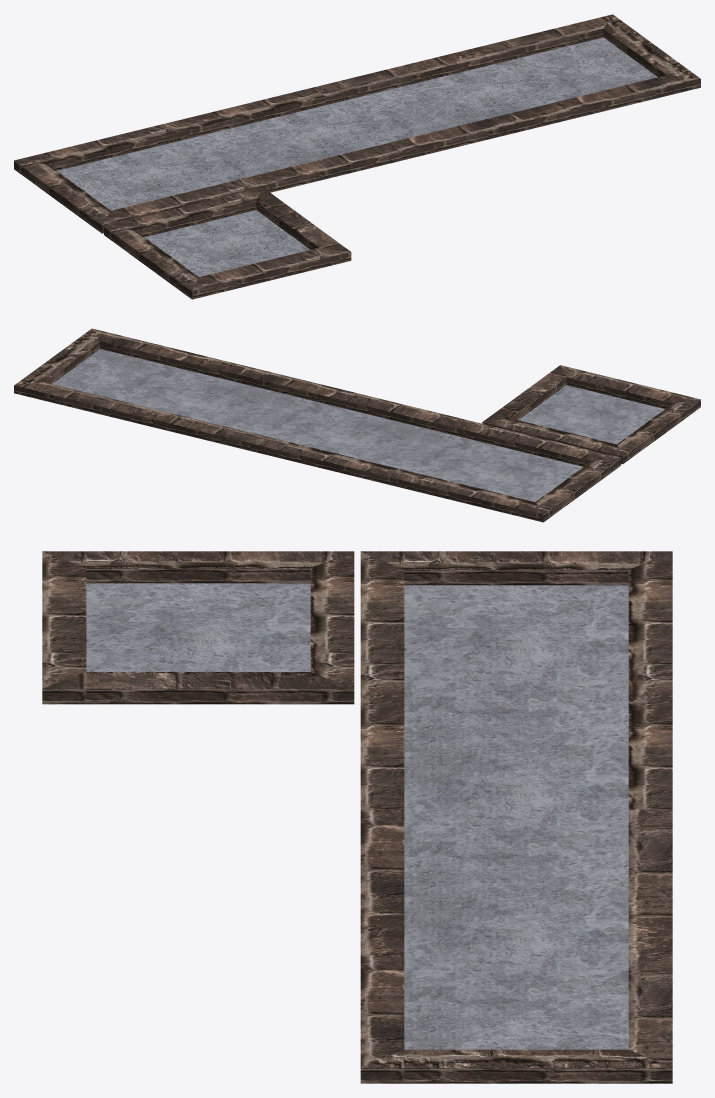
File: road_parts_new.fbx
3 renders of one model, top to bottom at view 1: azimuth 30°, elevation 25°; view 2: azimuth 150°, elevation 25°; view 3: azimuth 270°, elevation 25°, orthographic. The views are drawn at different scales.
Parts seen in each view (by area): view 1: road_2.001, road_2; view 2: road_2.001, road_2; view 3: road_2.001, road_2.
Boxes of the visible parts, left/top/right/bottom form: road_2.001: left=14, top=14, right=700, bottom=233; road_2: left=104, top=187, right=351, bottom=299; road_2.001: left=14, top=328, right=621, bottom=522; road_2: left=482, top=365, right=700, bottom=463; road_2.001: left=360, top=551, right=672, bottom=1083; road_2: left=42, top=551, right=354, bottom=704.
Size of the model in its own units: 713 by 368 by 9.98.
